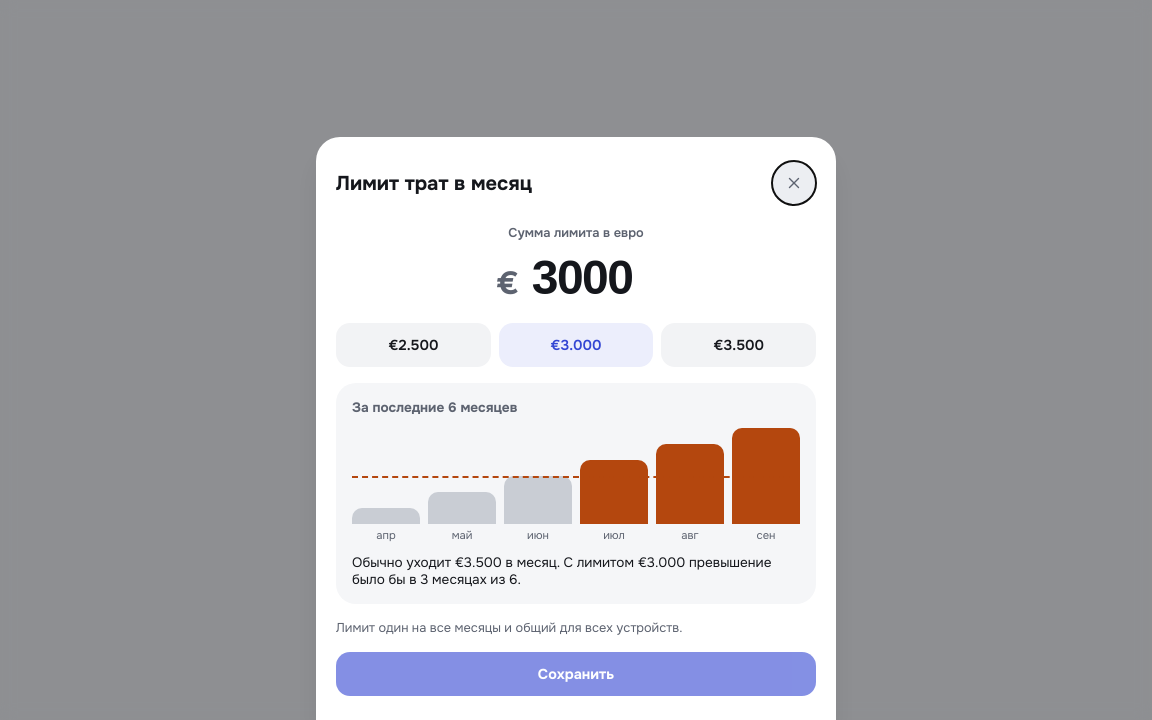
Test: LimitSheet › shows a hint and disables saving for
Clear the number field labelled "Сумма лимита в евро" at point(590, 278), box [523,249,656,307]
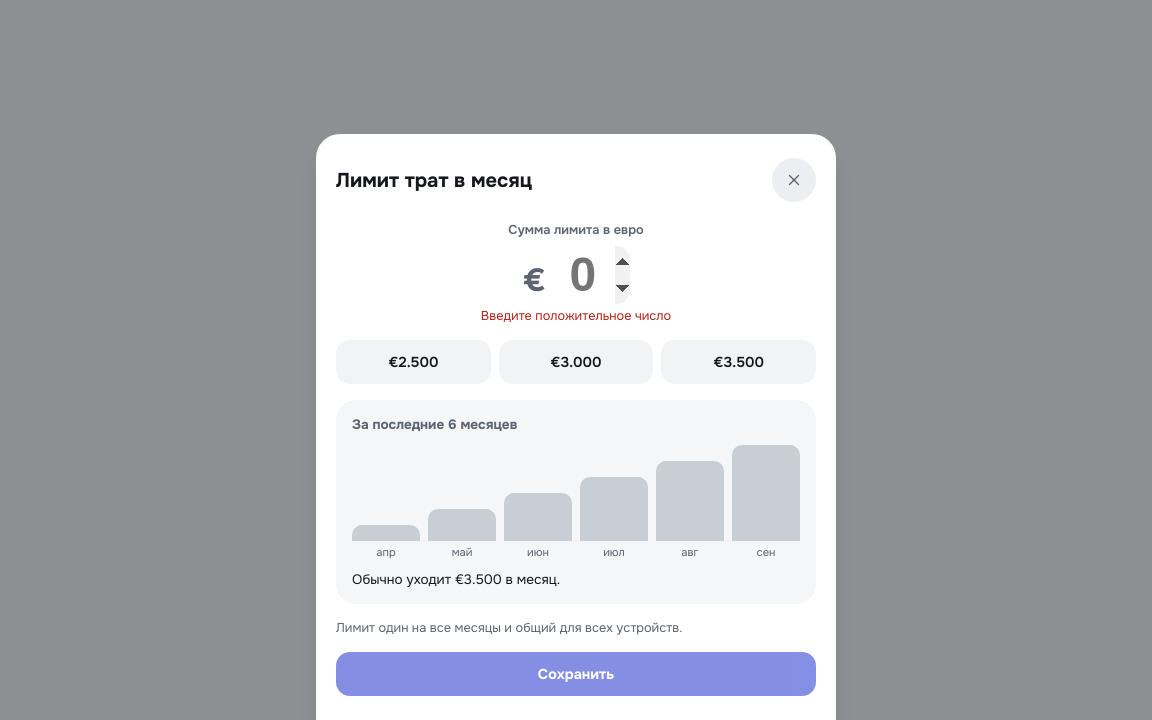
Check: the button "Сохранить" is disabled, box [336,652,816,696]
Check: the text "Введите положительное число" is shown, box [481,308,671,324]
